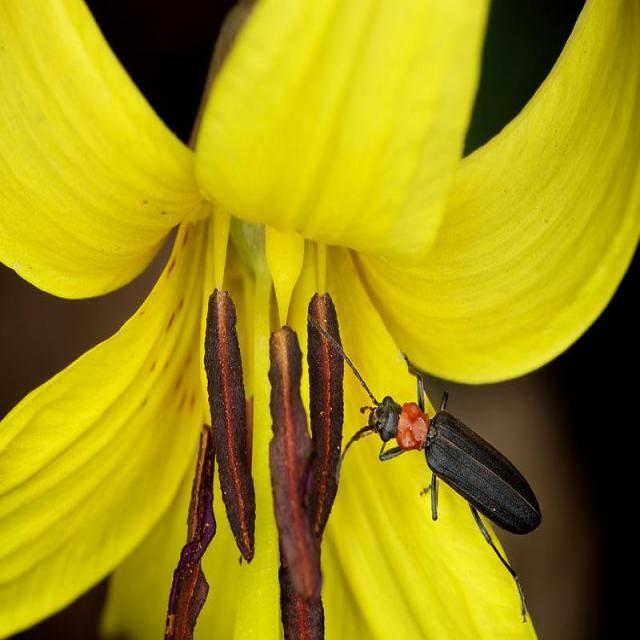BlisterBeetle-Adult-: (312, 326, 550, 548)
